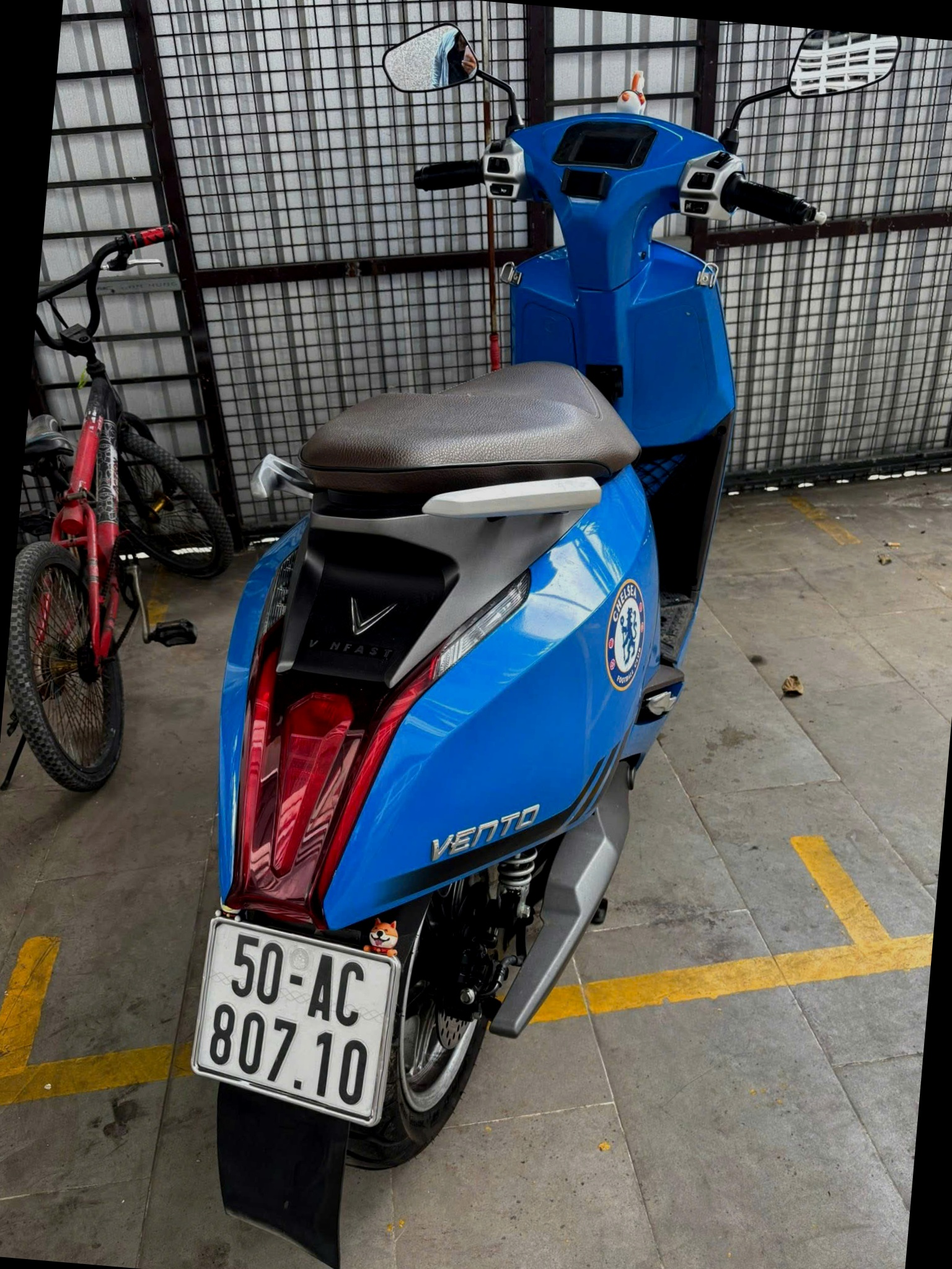Bien-so: (190, 917, 399, 1132)
